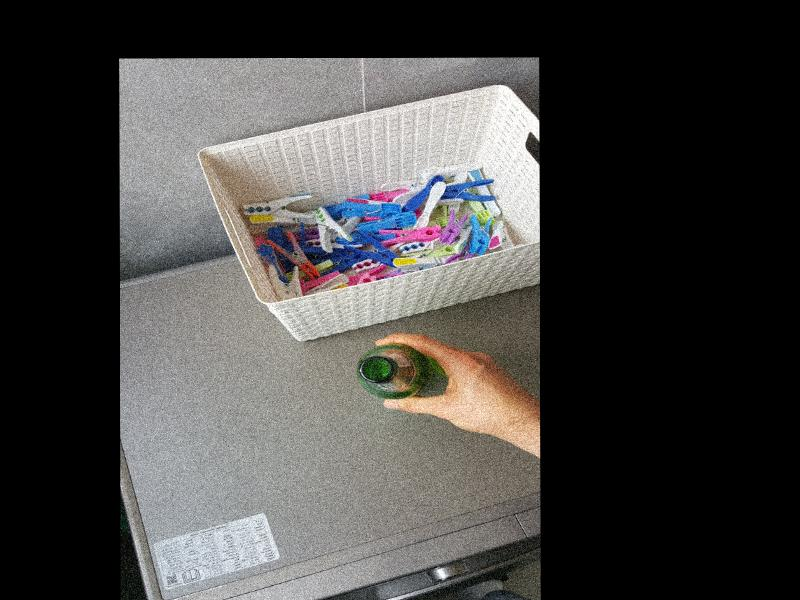Beer: (356, 344, 434, 399)
